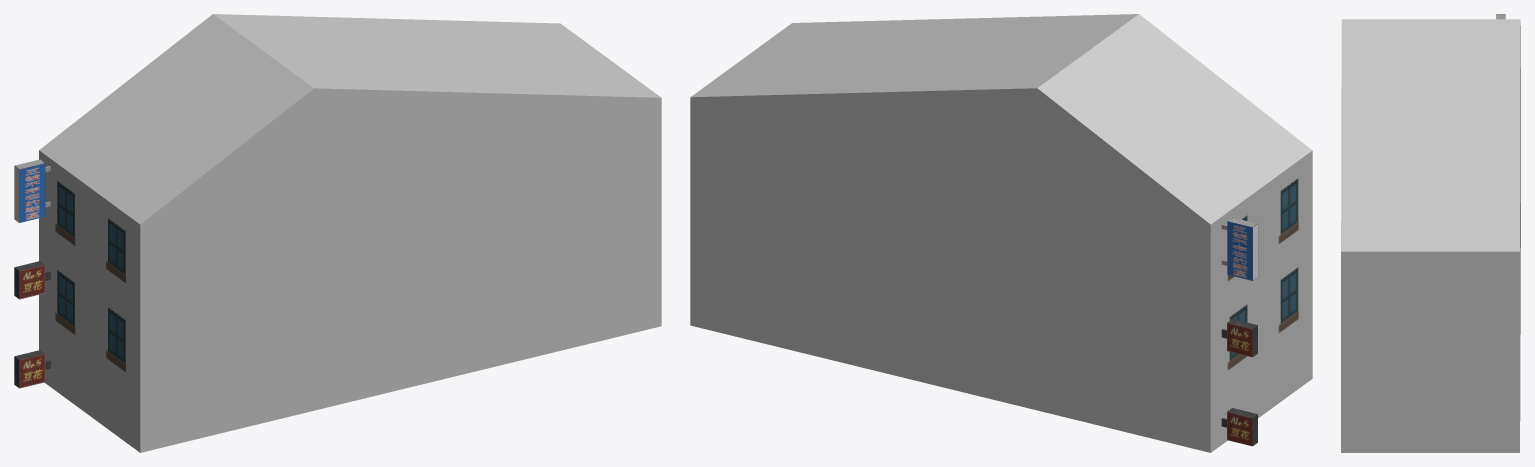
File: 111StationFix01.fbx
3 renders of one model, left to right at view 1: azimuth 30°, elevation 25°; view 2: azimuth 150°, elevation 25°; view 3: azimuth 270°, elevation 25°, orthographic. The views are drawn at different scales.
Visible parts, largest first — view 1: Cube.472; view 2: Cube.472; view 3: Cube.472.
Part boxes in pixels (x1,y1,x2,y2): Cube.472: (14, 14, 661, 452); Cube.472: (690, 14, 1312, 452); Cube.472: (1341, 14, 1520, 452).
Size of the model in its own units: 19.99 by 11.1 by 6.37.
